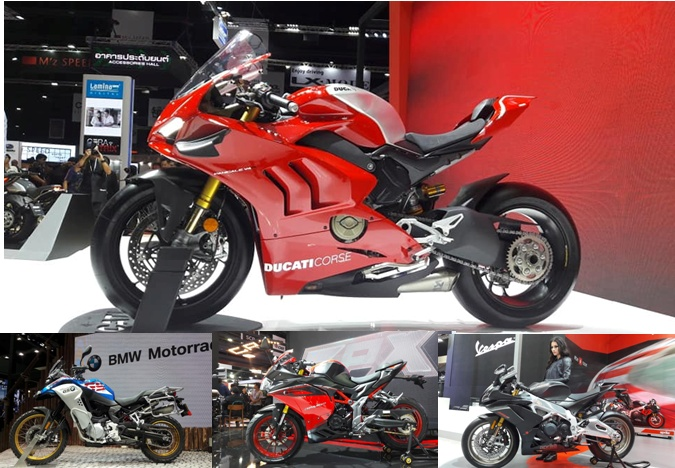motorcycle: (91, 61, 579, 329), (247, 354, 423, 457), (9, 361, 187, 461), (460, 371, 638, 467)
